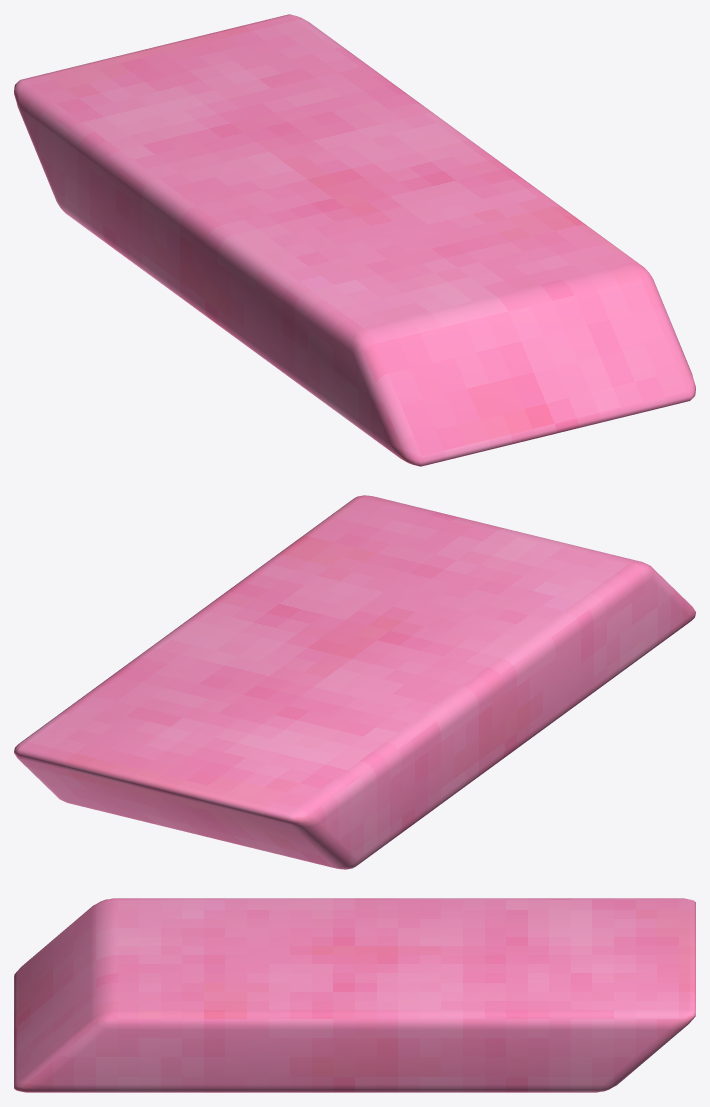
Rendered from eraser.obj.
3 views of the same model, one above another, from view 1: azimuth 30°, elevation 25°; view 2: azimuth 150°, elevation 25°; view 3: azimuth 270°, elevation 25° (orthographic). The views are drawn at different scales.
Visible parts, largest first — view 1: Cube; view 2: Cube; view 3: Cube.
Part boxes in pixels (box(x1,y1,x2,y2)): Cube: box(14, 14, 695, 466); Cube: box(14, 495, 695, 869); Cube: box(14, 898, 695, 1092).
Size of the model in its own units: 0.75 by 0.2284 by 1.75.
